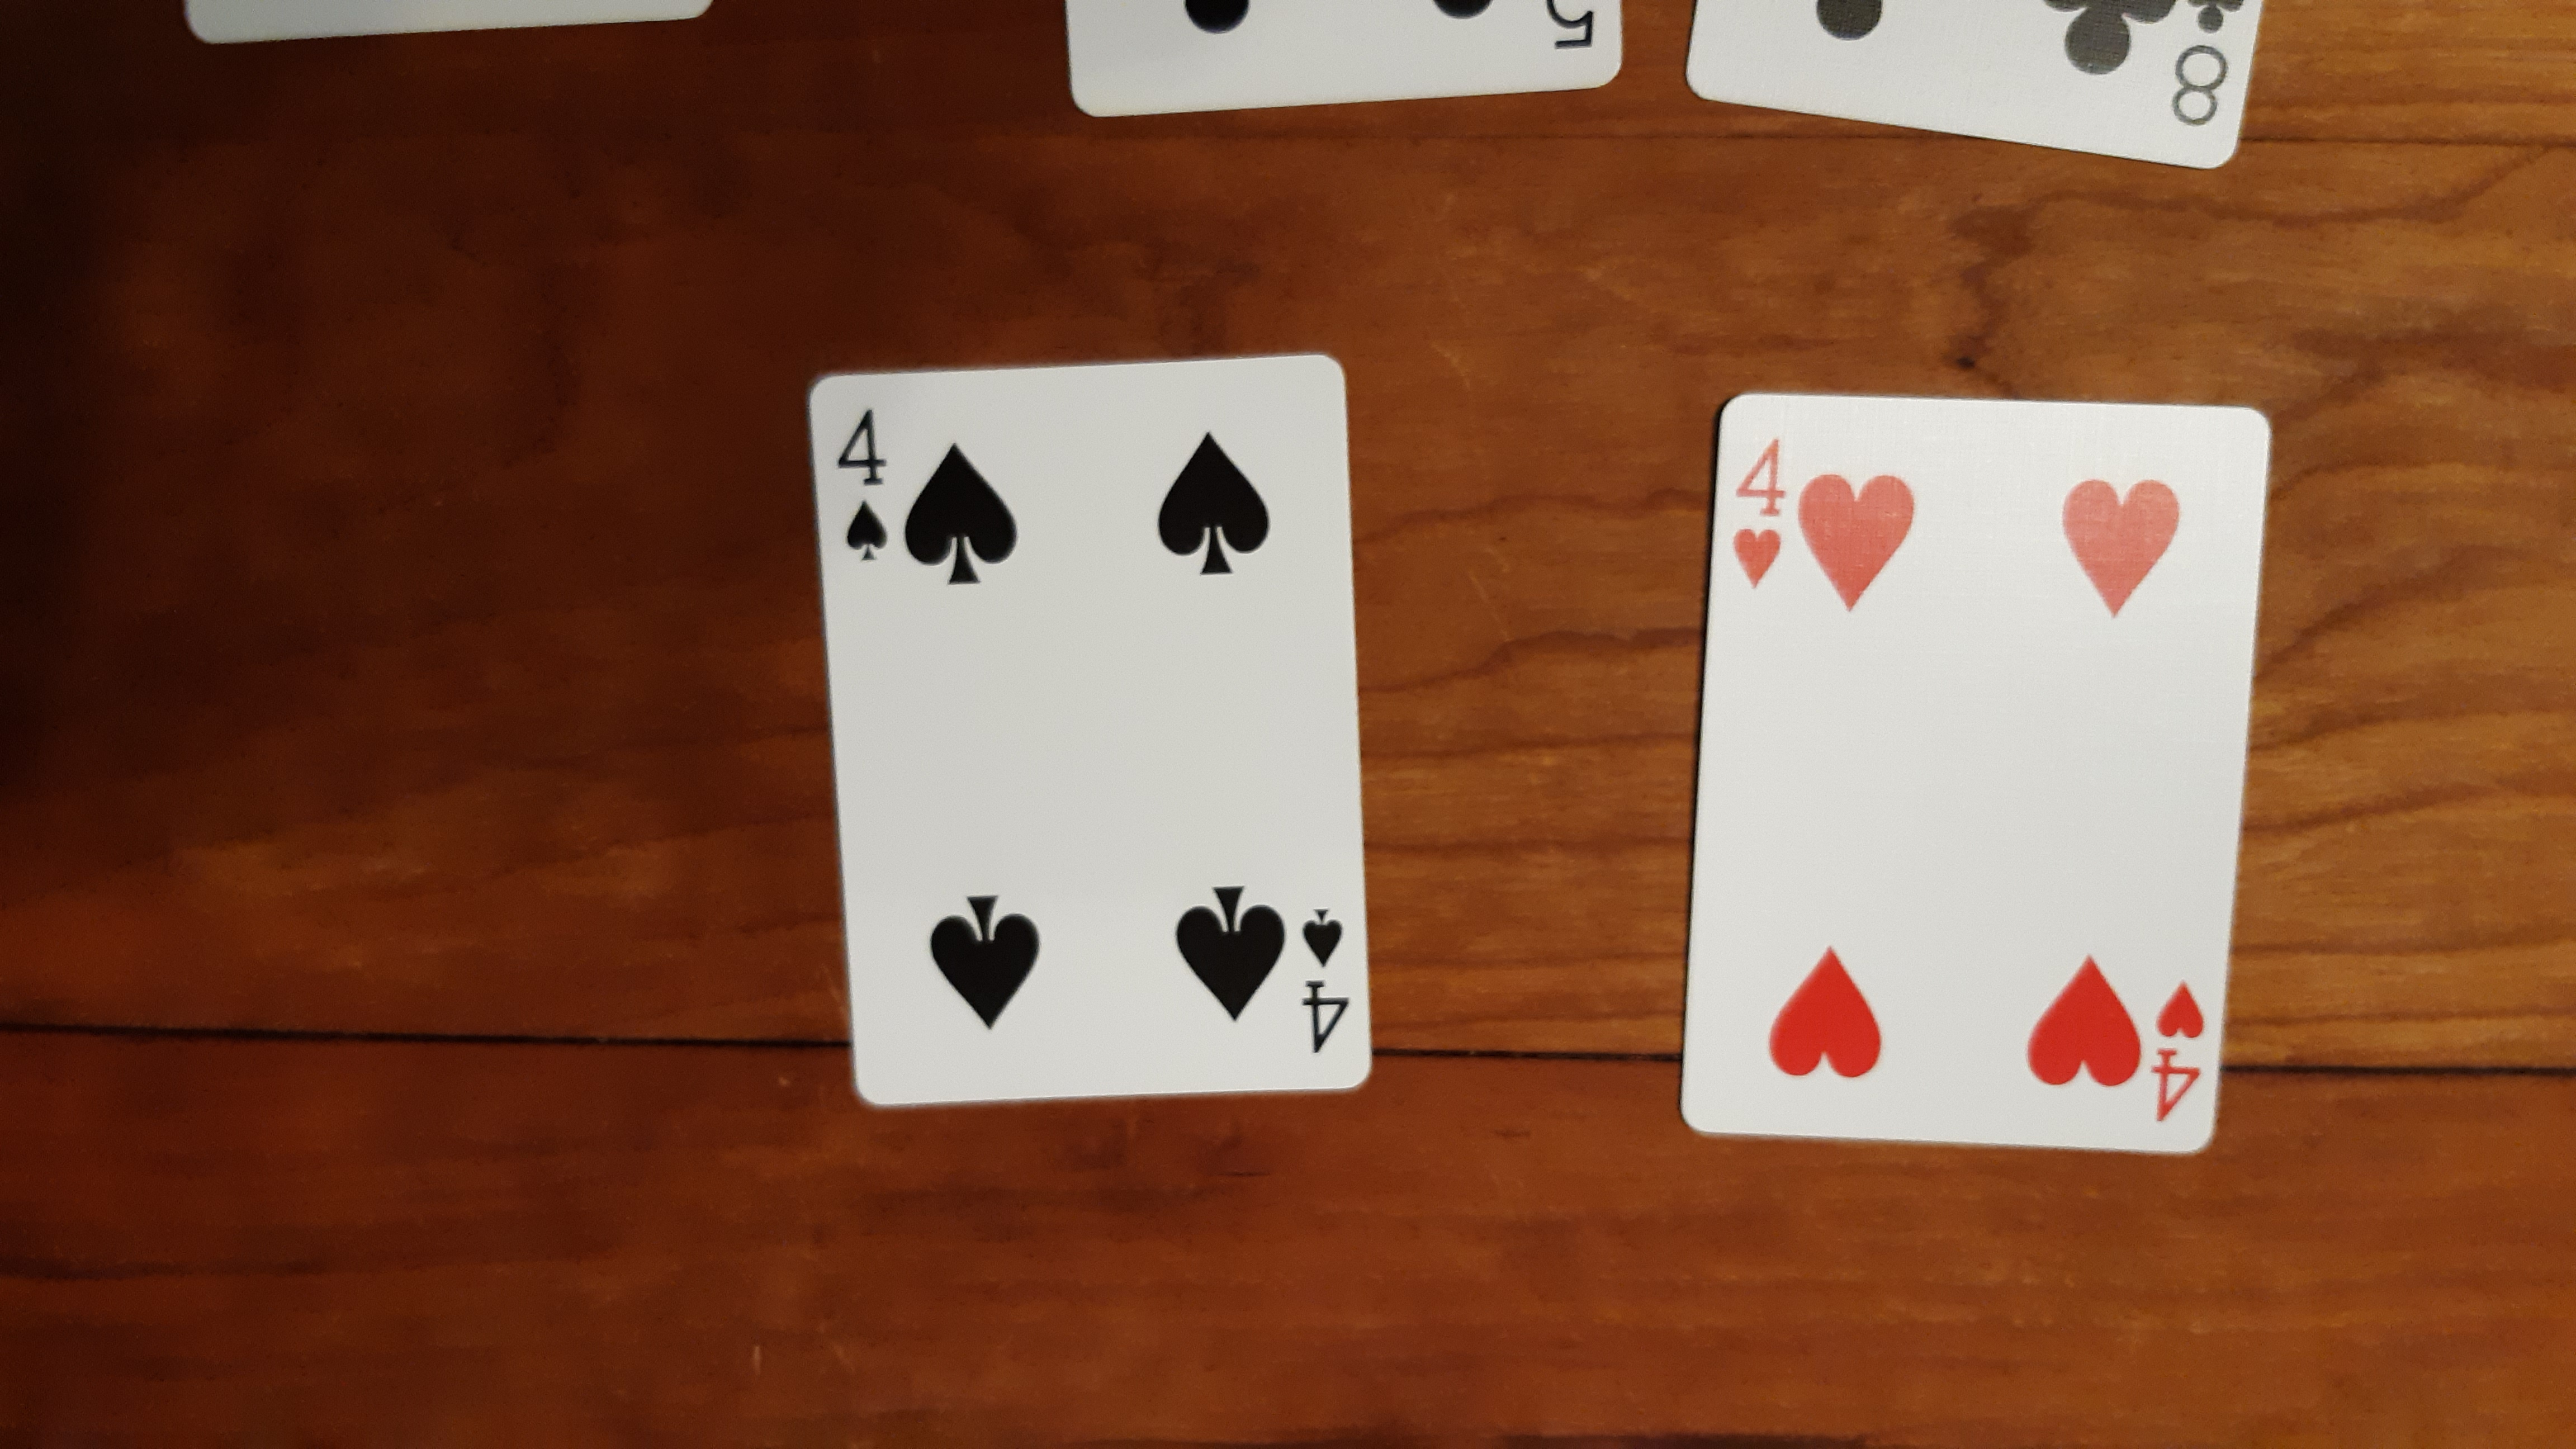Black_Club_8: (2164, 2, 2245, 142)
Black_Spade_4: (830, 403, 897, 566), (1300, 897, 1357, 1062)
Red_Heart_4: (2143, 980, 2206, 1136), (1729, 435, 1792, 589)
